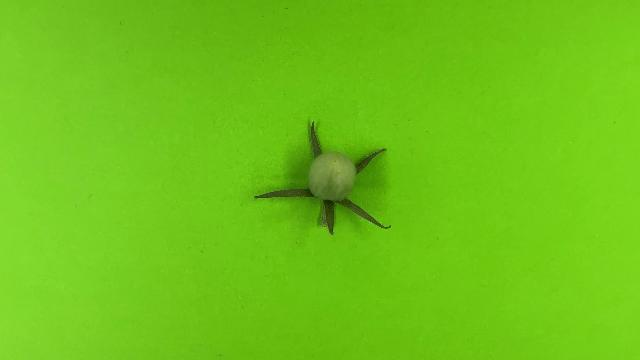Fruit Maturation: (305, 151, 357, 202)
